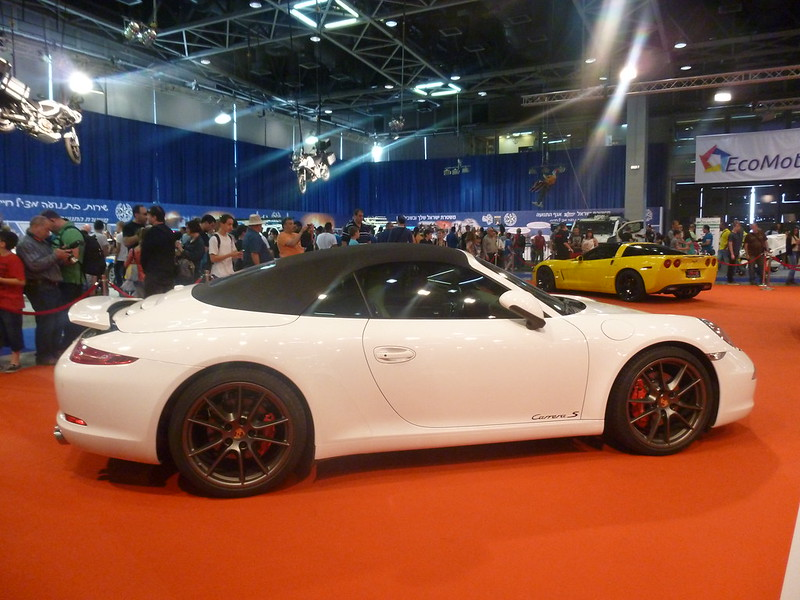car: (41, 240, 768, 497), (533, 236, 722, 299)
